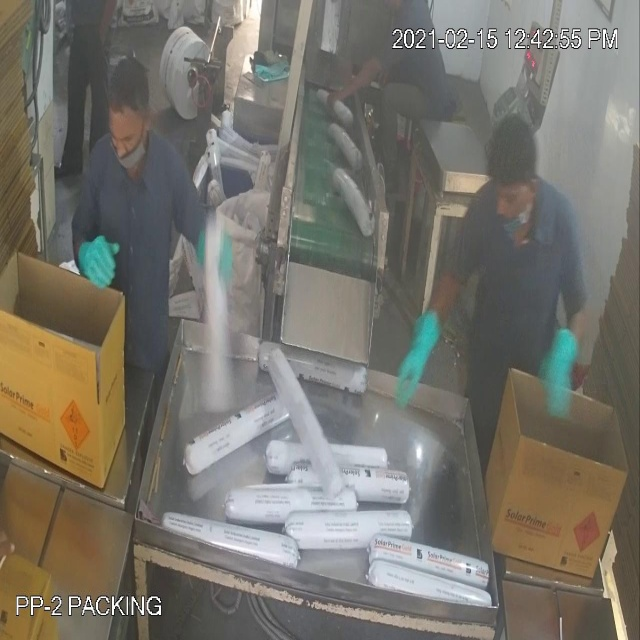Guantes: (387, 315, 444, 404), (534, 315, 579, 418), (69, 225, 118, 299)
Sin_guantes: (323, 61, 386, 106)
